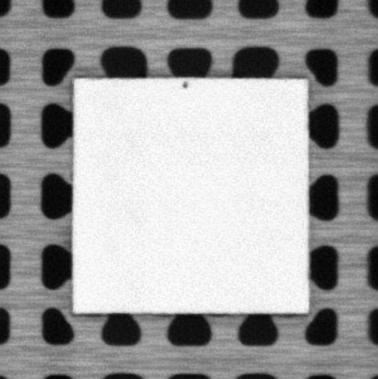DIE_INK: (181, 78, 190, 88)
